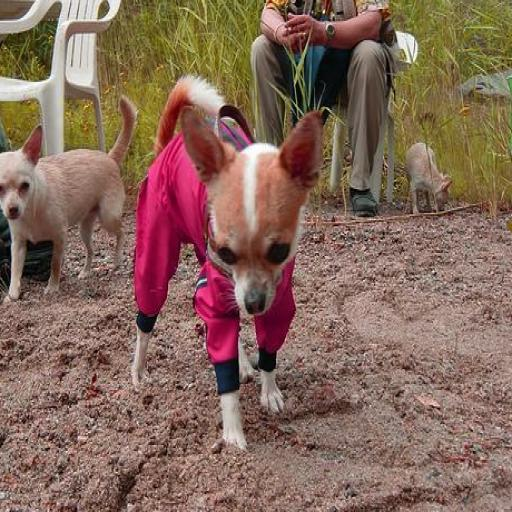dog_face: (186, 100, 313, 315)
